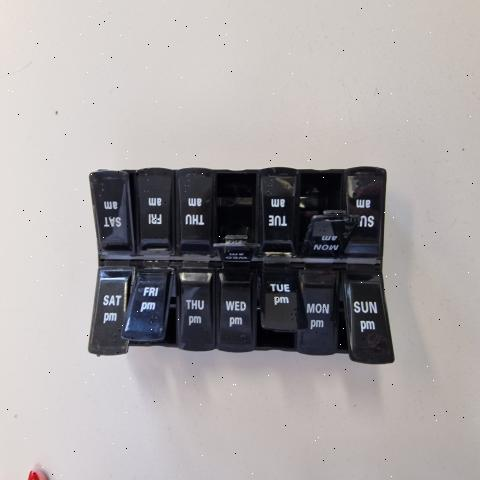Open: (297, 170, 359, 256), (255, 273, 309, 350), (124, 270, 177, 346), (215, 173, 256, 259), (337, 273, 351, 361)
